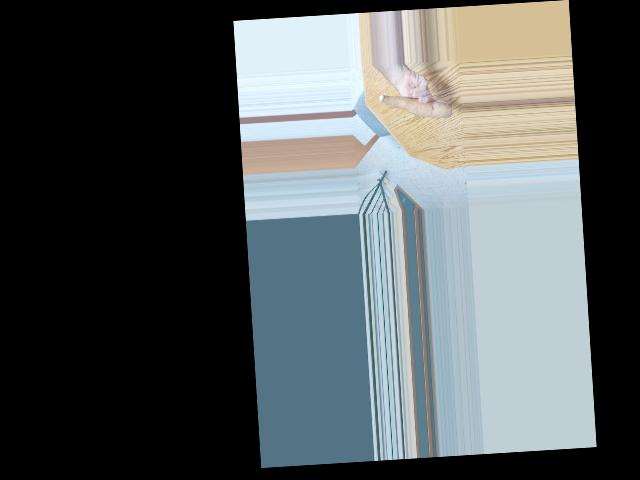sweet_potato: (378, 87, 451, 124)
